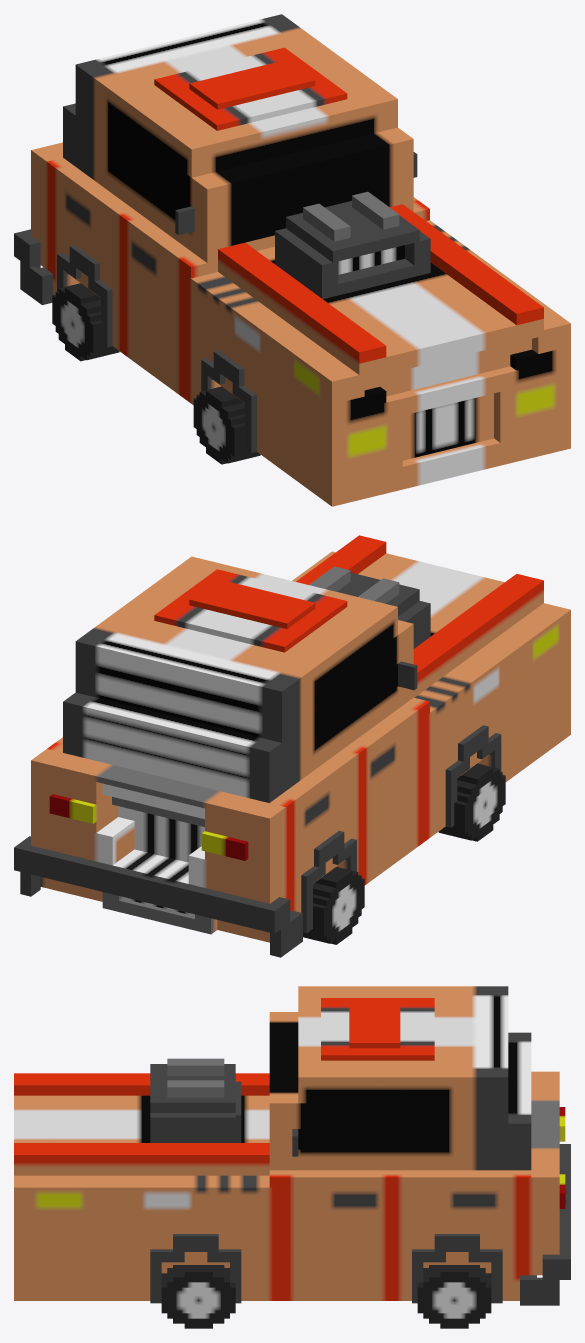
File: car_super_2.fbx
3 views of the same model, one above another, from view 1: azimuth 30°, elevation 25°; view 2: azimuth 150°, elevation 25°; view 3: azimuth 270°, elevation 25° (orthographic). The views are drawn at different scales.
Visible parts, largest first — view 1: body, back_right_wheel, back_left_wheel; view 2: body, back_left_wheel, back_right_wheel; view 3: body, front_right_wheel, front_left_wheel.
Boxes of the visible parts, x1,y1,x2,y2 form: body: [14, 14, 570, 506]; back_right_wheel: [193, 386, 260, 464]; back_left_wheel: [52, 283, 119, 361]; body: [14, 535, 570, 957]; back_left_wheel: [303, 867, 364, 944]; back_right_wheel: [438, 763, 505, 841]; body: [14, 986, 570, 1305]; front_right_wheel: [161, 1265, 235, 1328]; front_left_wheel: [417, 1265, 491, 1328].
Bounding box in the file's own units: 50 × 48 × 98.
Materials: 1 (1 with a texture image).
